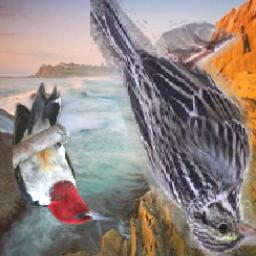Sparrow: (89, 0, 256, 256)
Woodpecker: (12, 83, 113, 226)
